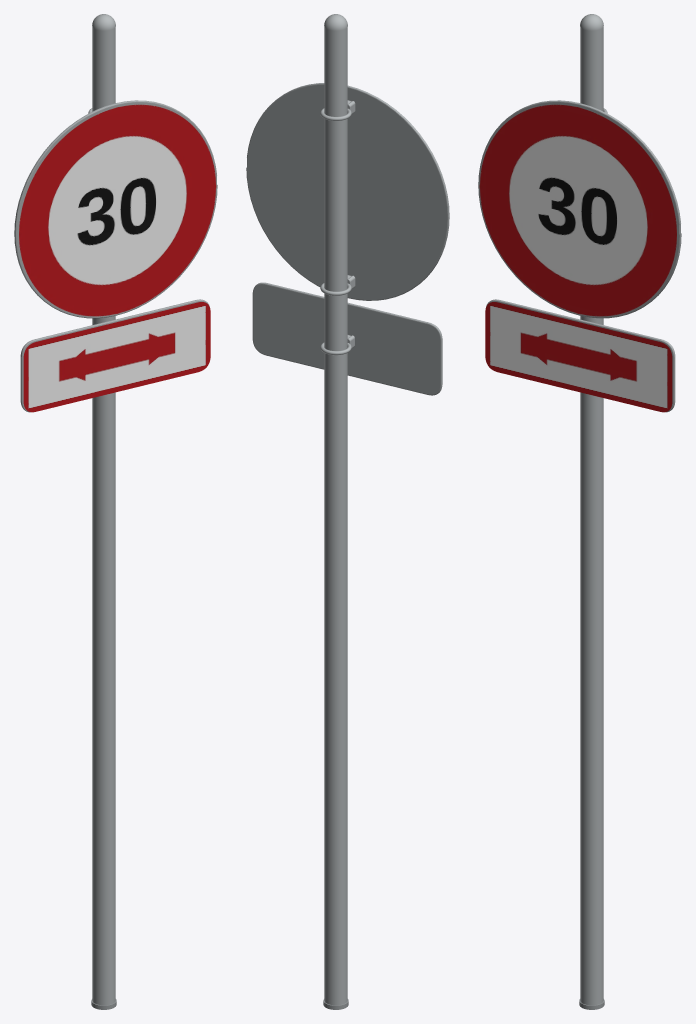
3 views of the same model, side by side, from view 1: azimuth 30°, elevation 25°; view 2: azimuth 150°, elevation 25°; view 3: azimuth 330°, elevation 25° (orthographic).
Visible parts, largest first — view 1: opt_speed_30, jp-sign-speed, opt_aux_on; view 2: jp-sign-speed, opt_aux_on; view 3: opt_speed_30, jp-sign-speed, opt_aux_on.
Part boxes in pixels (box(x1,y1,x2,y2)): opt_speed_30: box(19, 104, 216, 316); jp-sign-speed: box(14, 14, 217, 1009); opt_aux_on: box(20, 299, 210, 412); jp-sign-speed: box(246, 14, 449, 1009); opt_aux_on: box(252, 282, 442, 395); opt_speed_30: box(479, 104, 676, 316); jp-sign-speed: box(478, 14, 681, 1009); opt_aux_on: box(485, 299, 675, 412).
Size of the model in its own units: 0.606 by 2.83 by 0.1108.
9 materials, 5 textured.
